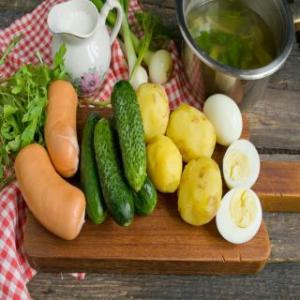cucumber: (114, 86, 148, 188), (98, 124, 130, 220), (86, 111, 103, 219)
egg: (223, 189, 263, 239), (224, 135, 260, 183), (209, 95, 240, 141)
potato: (186, 154, 216, 228), (172, 104, 210, 156), (139, 80, 166, 138), (151, 135, 177, 195)
